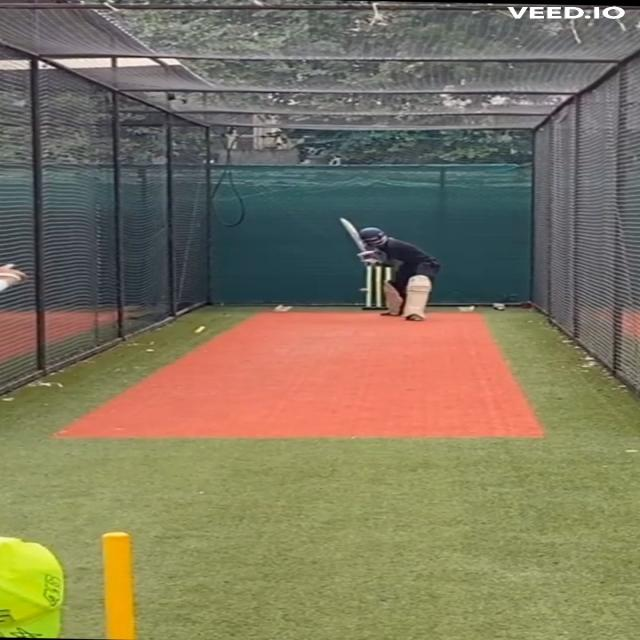ball: (358, 287, 371, 294)
stump: (362, 266, 393, 311)
